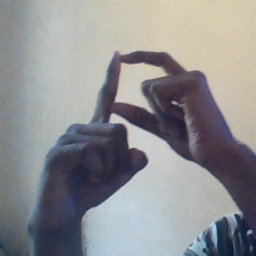D: (65, 40, 212, 149)
